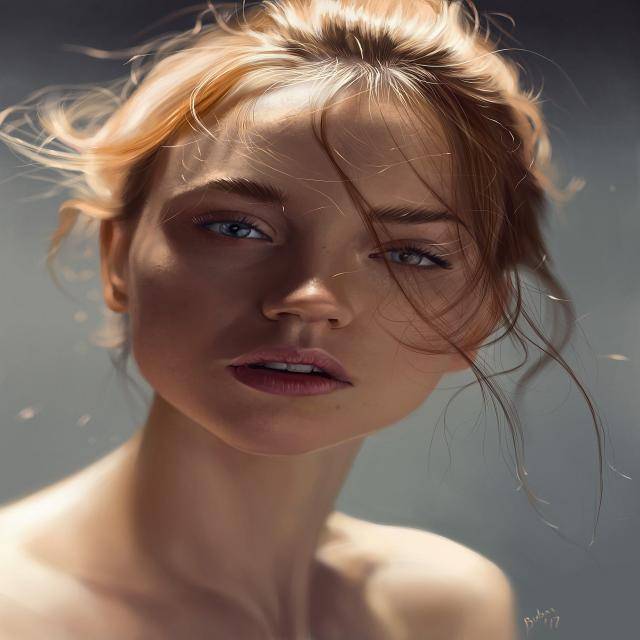earlobe: (445, 270, 500, 374), (97, 199, 134, 315)
